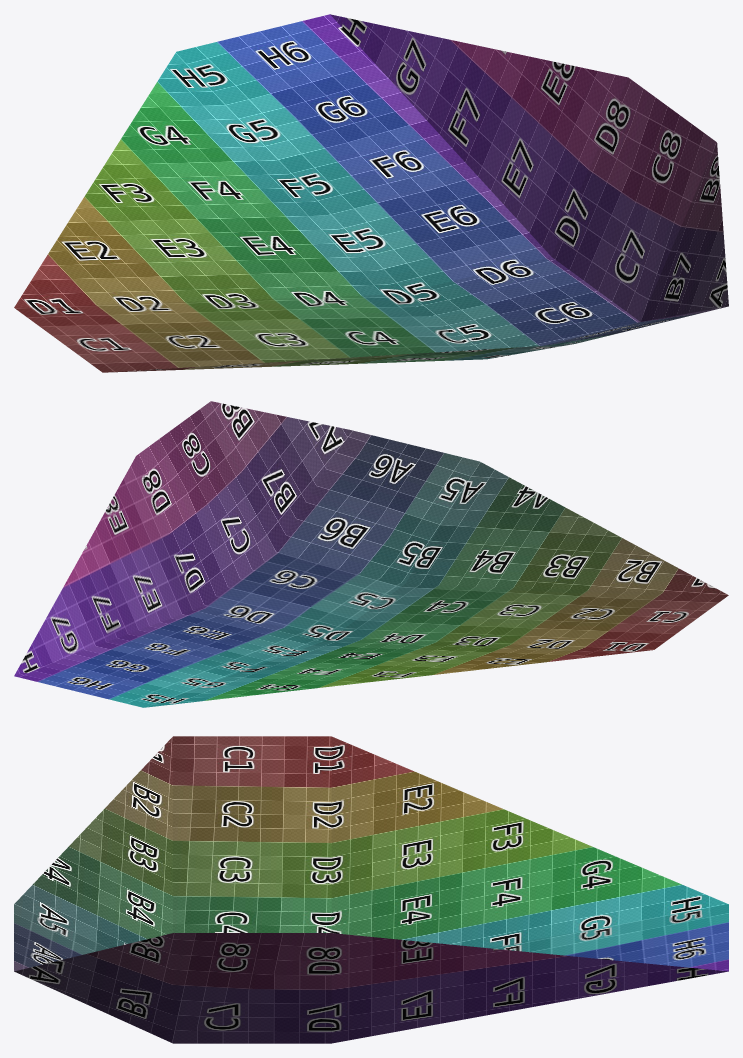
3 views of the same model, one above another, from view 1: azimuth 30°, elevation 25°; view 2: azimuth 150°, elevation 25°; view 3: azimuth 270°, elevation 25° (orthographic). The views are drawn at different scales.
Visible parts, largest first — view 1: Planetest_fullhitbox; view 2: Planetest_fullhitbox; view 3: Planetest_fullhitbox.
Boxes of the visible parts, x1=… form: Planetest_fullhitbox: x1=14, y1=14, x2=728, y2=372; Planetest_fullhitbox: x1=14, y1=401, x2=728, y2=707; Planetest_fullhitbox: x1=14, y1=736, x2=728, y2=1043.
Size of the model in its own units: 8 by 2 by 9.
Materials: 1 (1 with a texture image).
